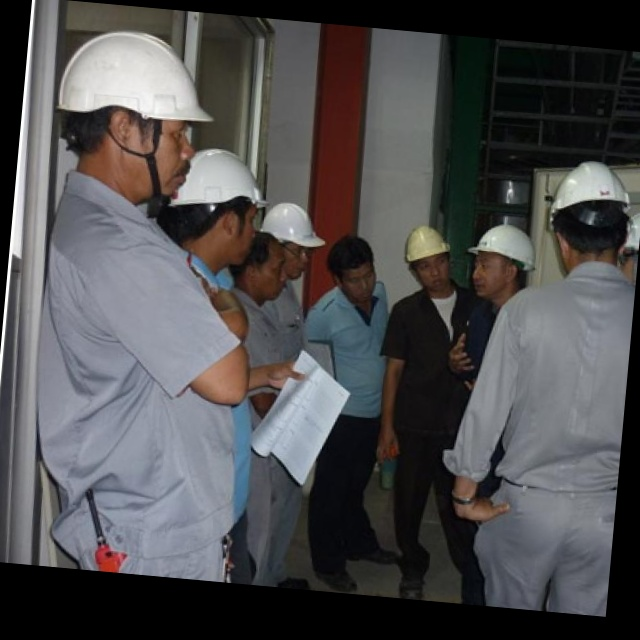Con_Casco: (51, 27, 219, 197), (404, 220, 458, 293)
Sin_Casco_Mascarrilla: (327, 234, 382, 302)
Sin_Chaleco: (494, 272, 636, 484)
